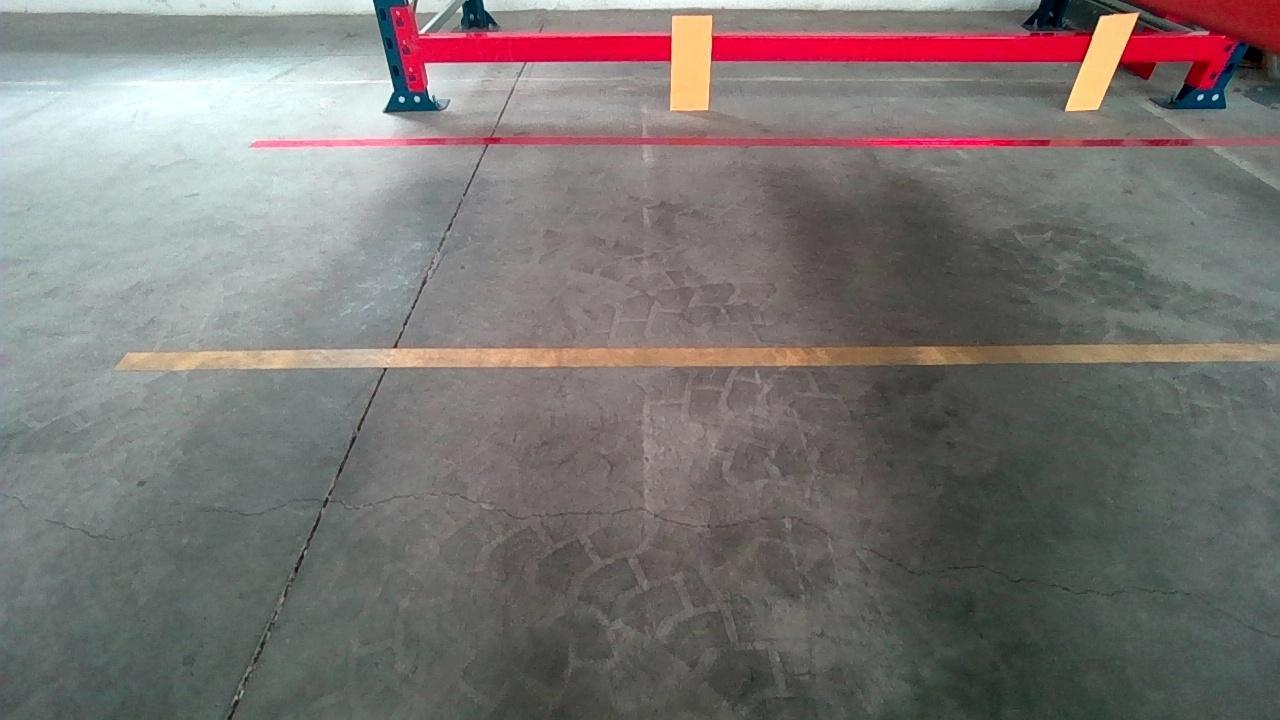h_rack: (416, 36, 1220, 61)
orange_strip: (1065, 11, 1142, 109), (672, 15, 712, 108)
red_line: (253, 138, 1280, 148)
yellow_line: (114, 342, 1280, 371)
